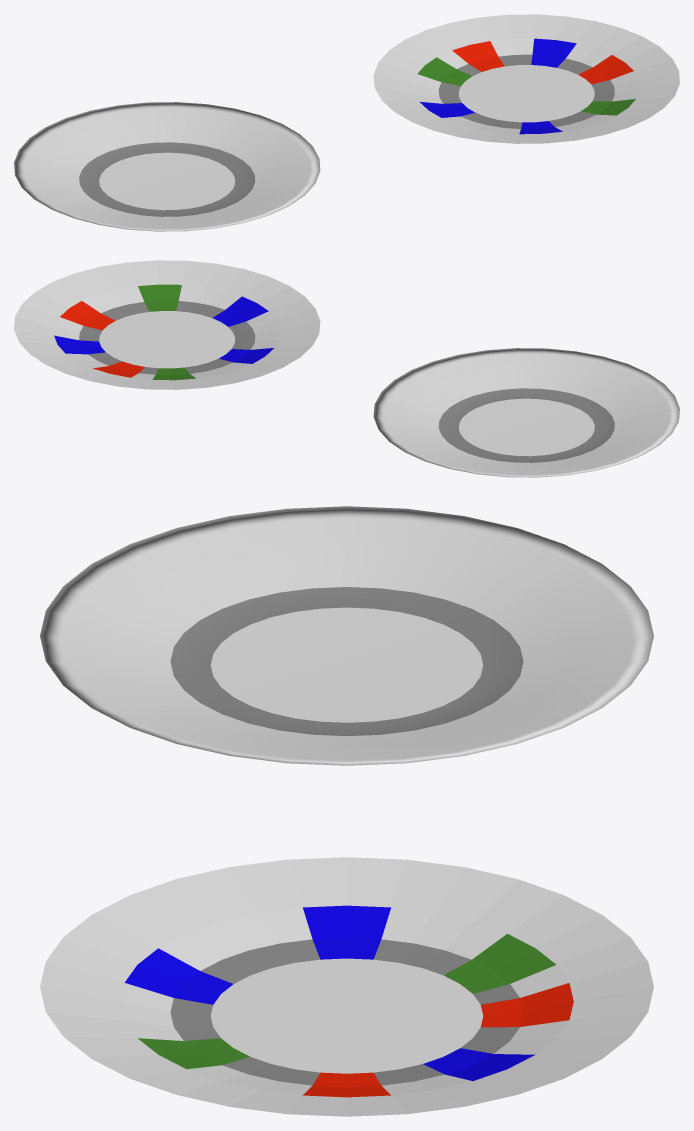
File: Pratos.fbx
3 views of the same model, one above another, from view 1: azimuth 30°, elevation 25°; view 2: azimuth 150°, elevation 25°; view 3: azimuth 270°, elevation 25° (orthographic). The views are drawn at different scales.
Parts seen in each view (by area): view 1: Prato, Prato Que NAO Gira, Prato Que Gira; view 2: Prato, Prato Que NAO Gira, Prato Que Gira; view 3: Prato, Prato Que NAO Gira, Prato Que Gira.
Part boxes in pixels (x1=…): Prato: x1=14, y1=102, x2=320, y2=231; Prato Que NAO Gira: x1=373, y1=14, x2=679, y2=143; Prato Que Gira: x1=438, y1=54, x2=614, y2=128; Prato: x1=373, y1=348, x2=679, y2=477; Prato Que NAO Gira: x1=14, y1=260, x2=320, y2=389; Prato Que Gira: x1=79, y1=300, x2=255, y2=374; Prato: x1=40, y1=506, x2=653, y2=765; Prato Que NAO Gira: x1=40, y1=857, x2=653, y2=1116; Prato Que Gira: x1=170, y1=938, x2=523, y2=1086.
Bounding box in the file's own units: 235 × 7.12 × 100.
